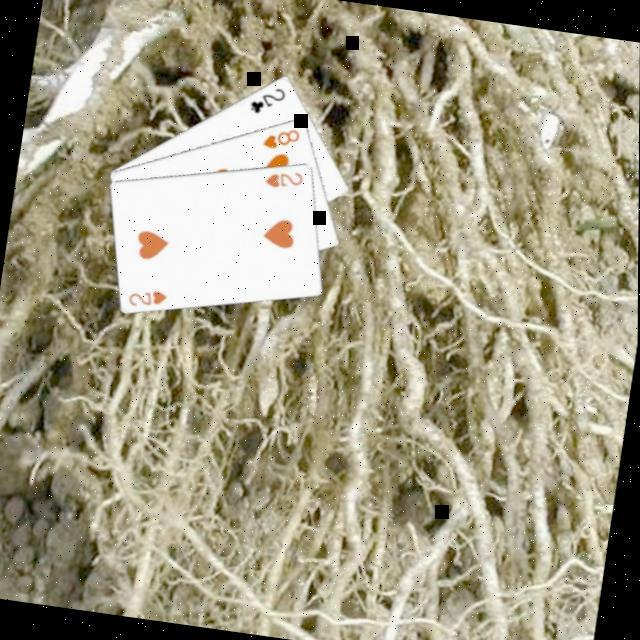2C: (244, 78, 288, 118)
2H: (260, 162, 306, 192), (124, 282, 170, 312)
8H: (256, 119, 302, 153)
